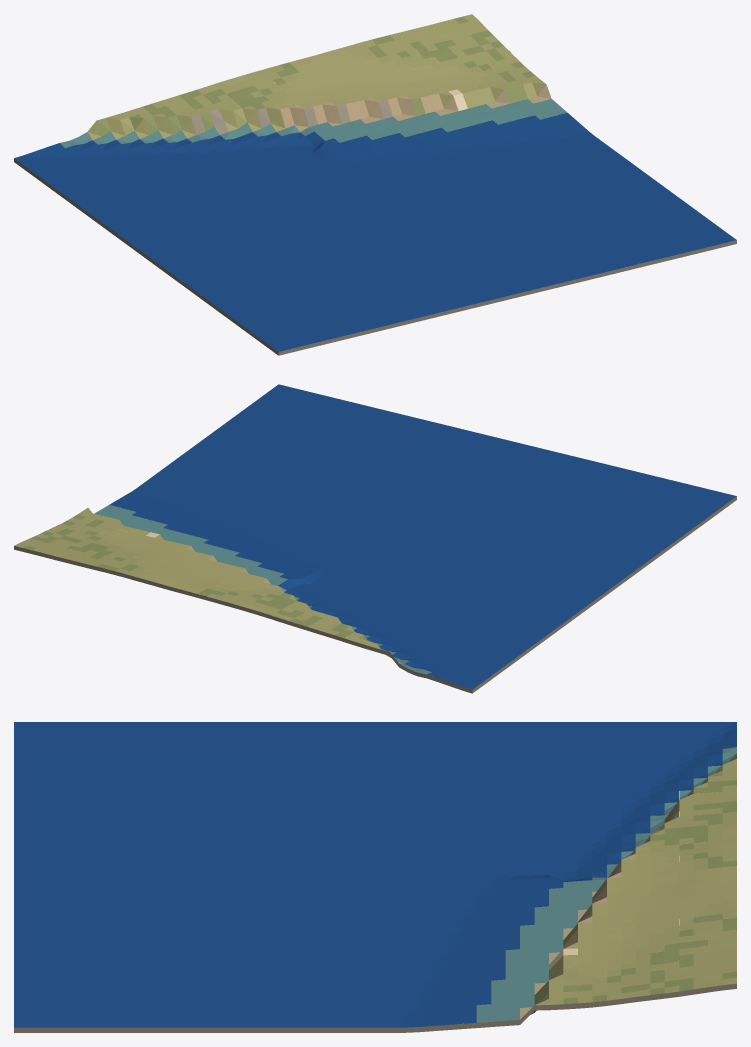
Rendered from parca_-3_-6-uzak.glb.
The picture shows the model from 3 angles, top to bottom: view 1: azimuth 30°, elevation 25°; view 2: azimuth 150°, elevation 25°; view 3: azimuth 270°, elevation 25°; orthographic projection. The views are drawn at different scales.
Parts seen in each view (by area): view 1: parca_-3_-6_arazi_uzak; view 2: parca_-3_-6_arazi_uzak; view 3: parca_-3_-6_arazi_uzak.
Boxes of the visible parts, left/top/right/bottom form: parca_-3_-6_arazi_uzak: left=14, top=14, right=736, bottom=355; parca_-3_-6_arazi_uzak: left=14, top=384, right=736, bottom=693; parca_-3_-6_arazi_uzak: left=14, top=722, right=736, bottom=1032.
Bounding box in the file's own units: 1000 × 75.15 × 1000.
